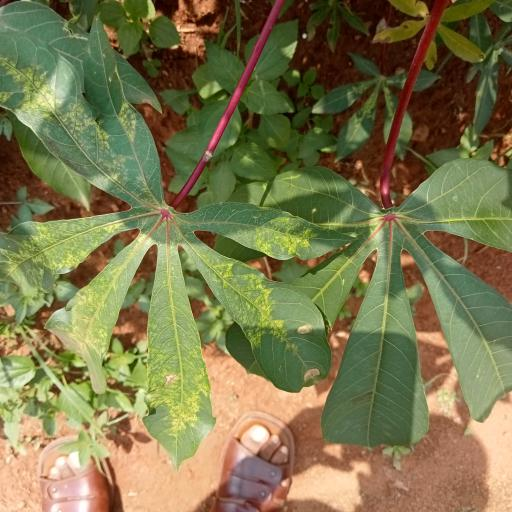Cassava_Healthy: (0, 23, 324, 422), (275, 164, 512, 442)
